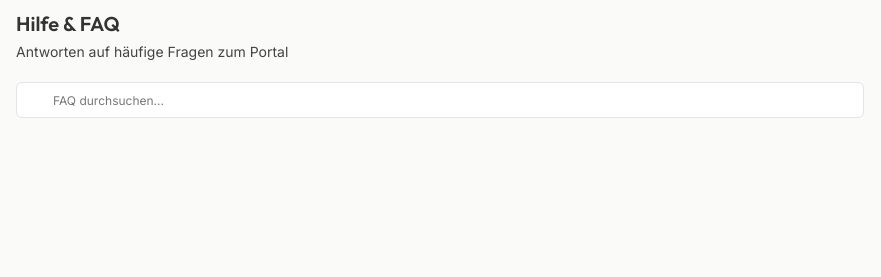
Scenario: HilfePage › search › filters sections when typing a matching term
The width and height of the screenshot is (881, 277).
Type "Passwort" into the field with placeholder "FAQ durchsuchen...".
click(440, 100); type("Passwort")  # box [16,82,864,118]
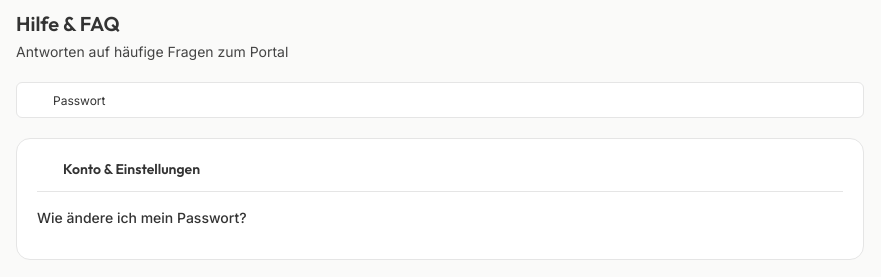
Now the heading "Konto & Einstellungen" is shown, box [63,159,200,179]
